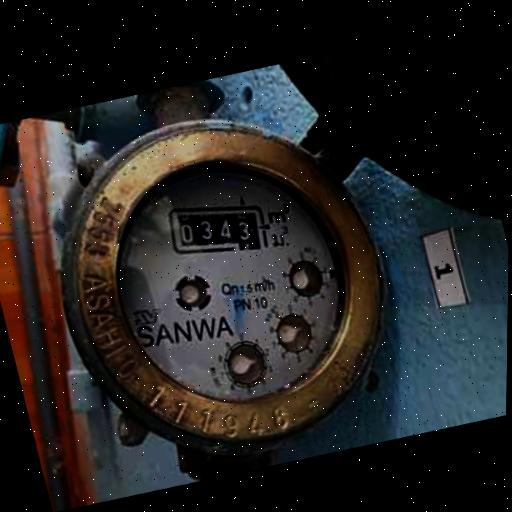0: (173, 211, 202, 250)
3: (229, 208, 263, 255), (189, 210, 218, 248)
4: (208, 208, 239, 247)
border_water_meter_number: (159, 183, 275, 274)
